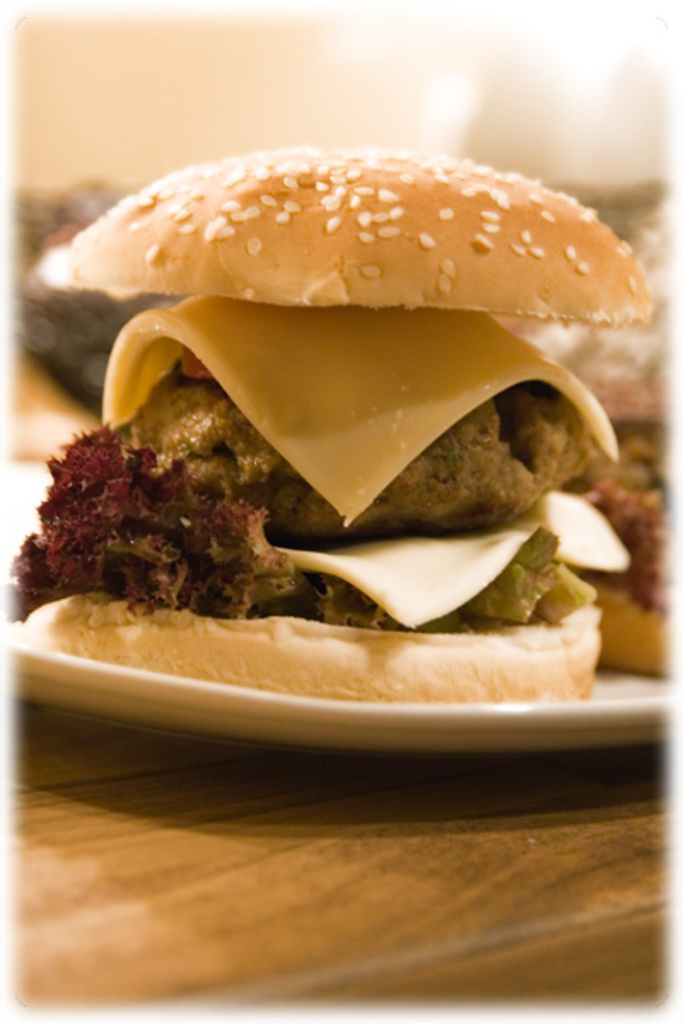Hamburger: (0, 151, 653, 701), (505, 226, 681, 663)
